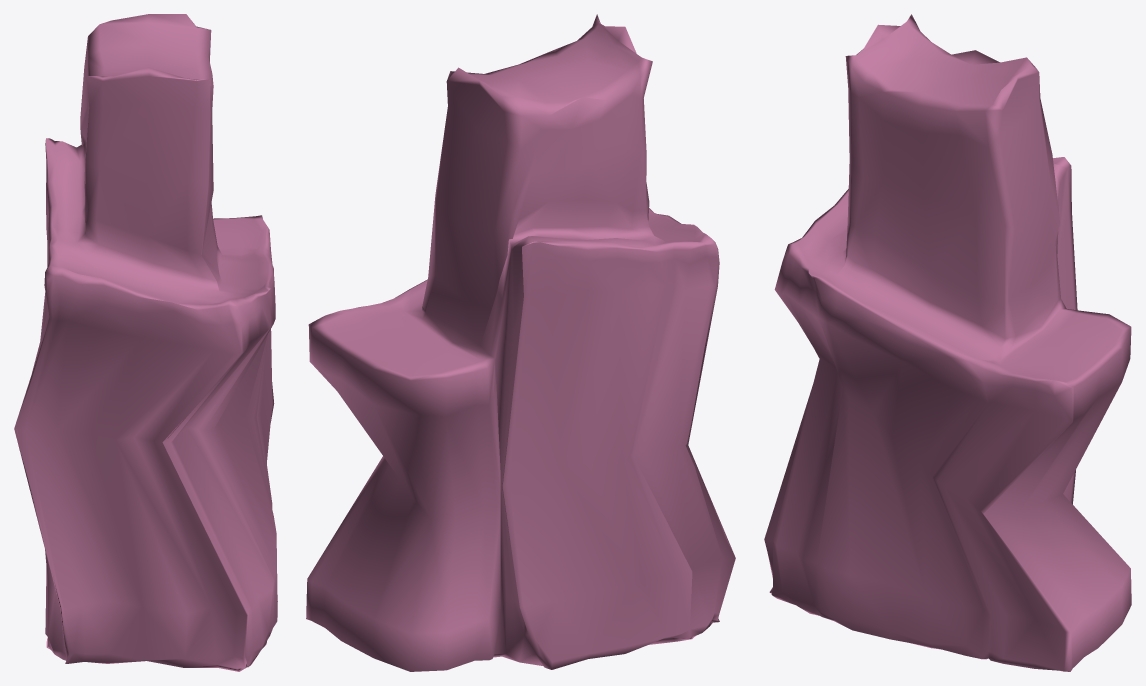
Rendered from terrain_W3A6c.fbx.
3 views of the same model, side by side, from view 1: azimuth 30°, elevation 25°; view 2: azimuth 150°, elevation 25°; view 3: azimuth 270°, elevation 25° (orthographic). The views are drawn at different scales.
Parts seen in each view (by area): view 1: W3A6_c; view 2: W3A6_c; view 3: W3A6_c.
Part boxes in pixels (<box>): W3A6_c: <box>14,14,277,671</box>; W3A6_c: <box>306,14,735,671</box>; W3A6_c: <box>764,14,1131,671</box>.
Size of the model in its own units: 6408 by 11128 by 6715.
